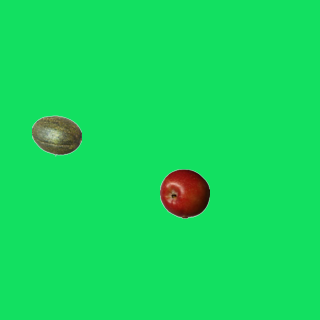Apple Braeburn: (159, 168, 209, 218)
Melon Piel de Sapo: (31, 110, 81, 160)
